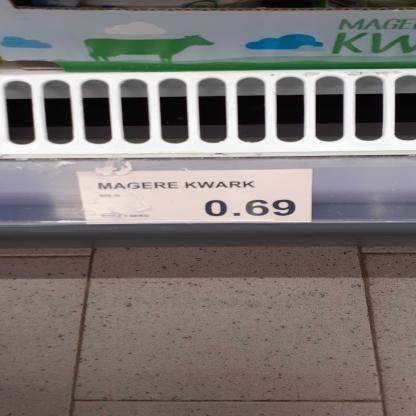prtg: (79, 170, 313, 226)
